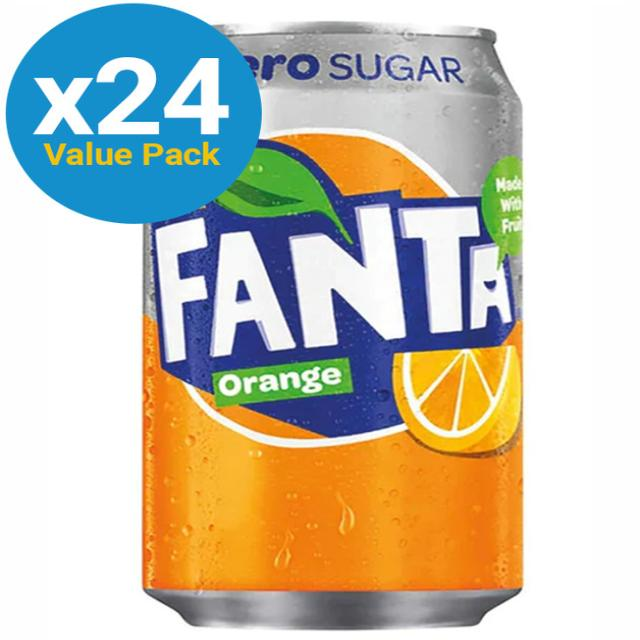fanta: (130, 27, 539, 637)
